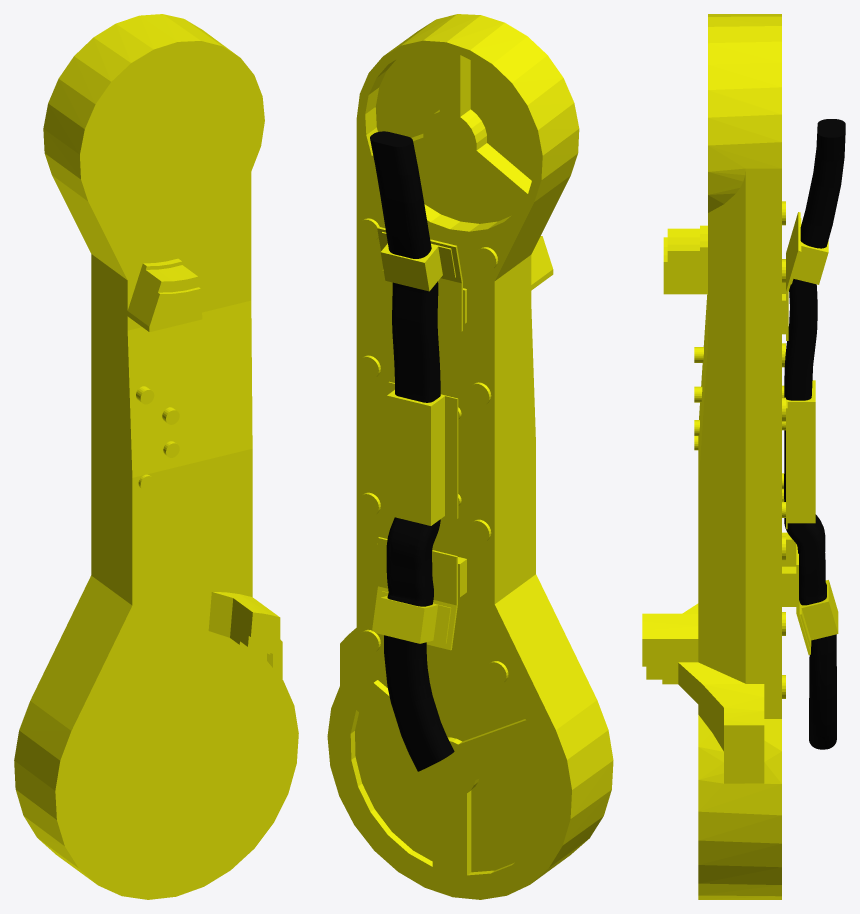
3 views of the same model, side by side, from view 1: azimuth 30°, elevation 25°; view 2: azimuth 150°, elevation 25°; view 3: azimuth 270°, elevation 25° (orthographic).
Visible parts, largest first — view 1: New object; view 2: New object; view 3: New object.
Boxes of the visible parts, bbox=[...] form: New object: bbox=[14, 14, 298, 899]; New object: bbox=[327, 14, 613, 899]; New object: bbox=[642, 14, 845, 899].
Bounding box in the file's own units: 0.3547 × 0.2526 × 1.18.
